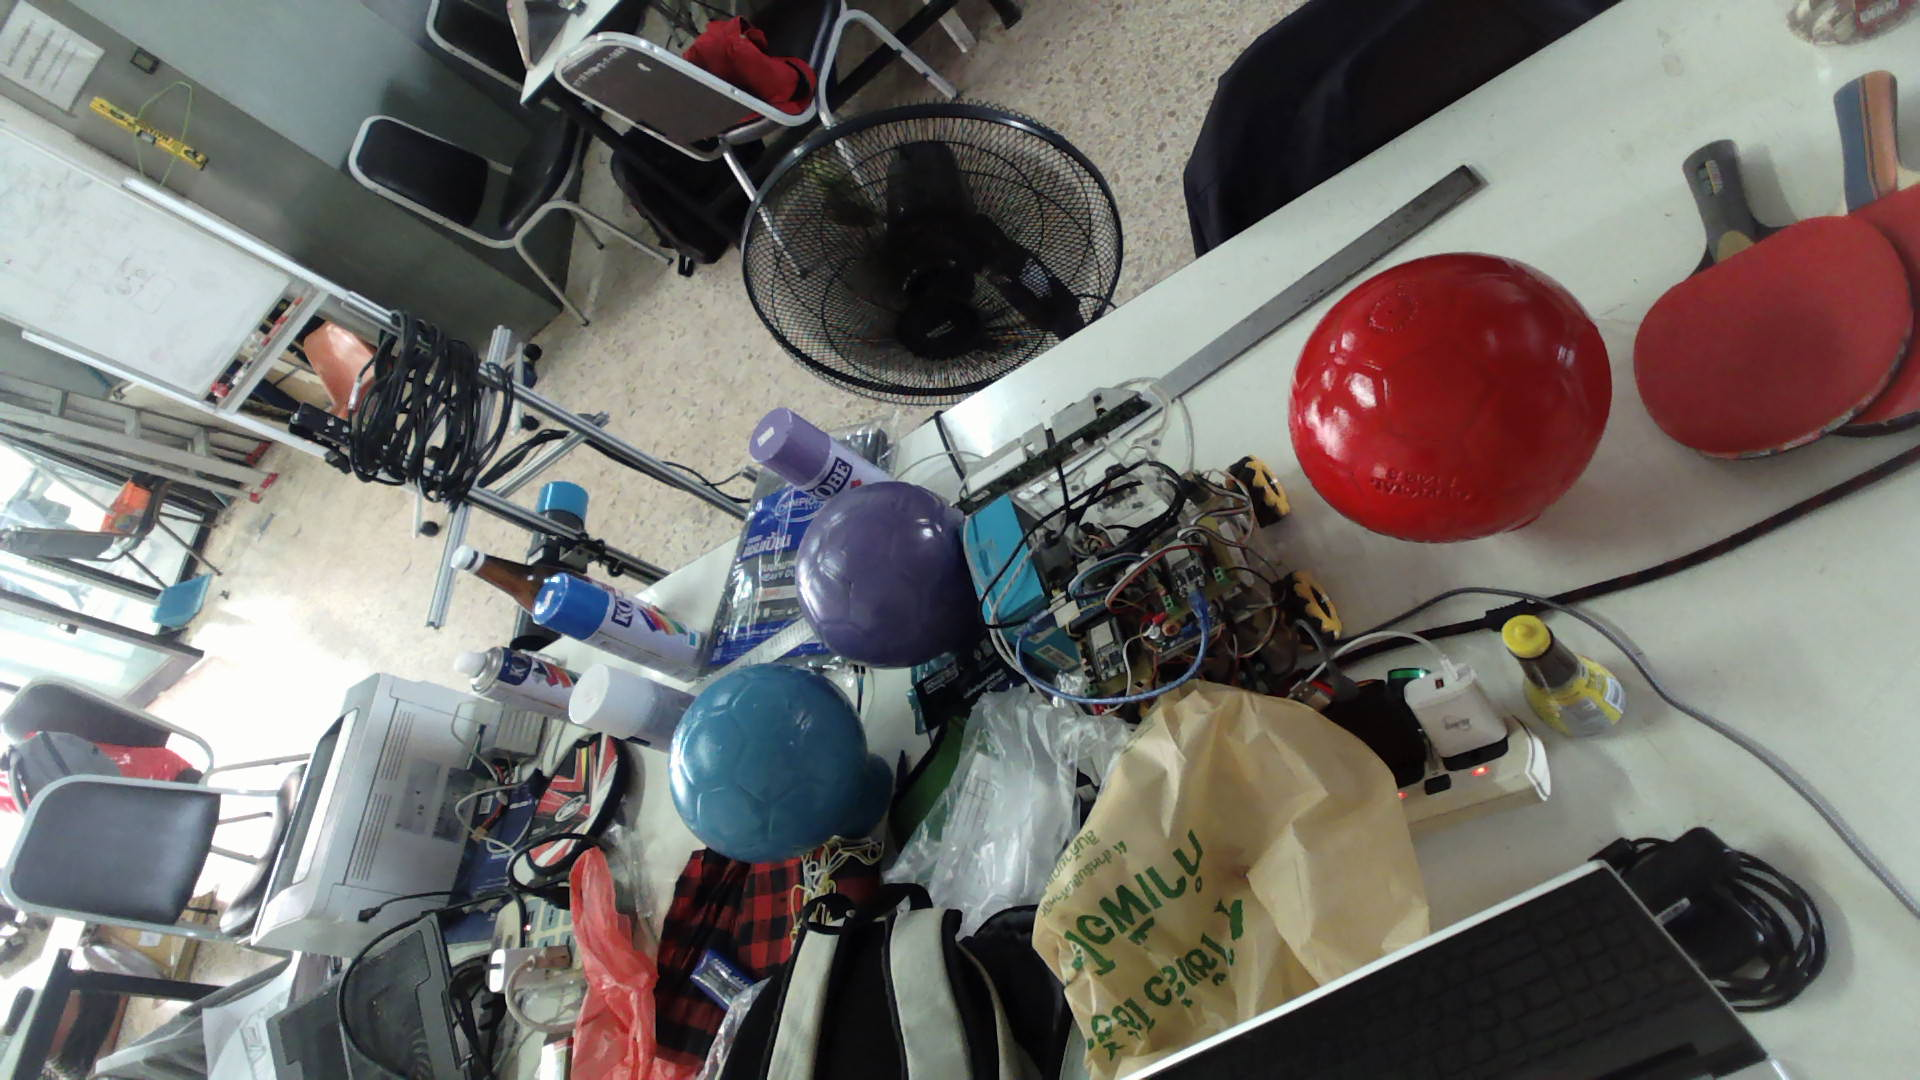Blue ball: (665, 662, 868, 869)
Purple ball: (790, 479, 981, 670)
Red ball: (1283, 247, 1615, 549)
